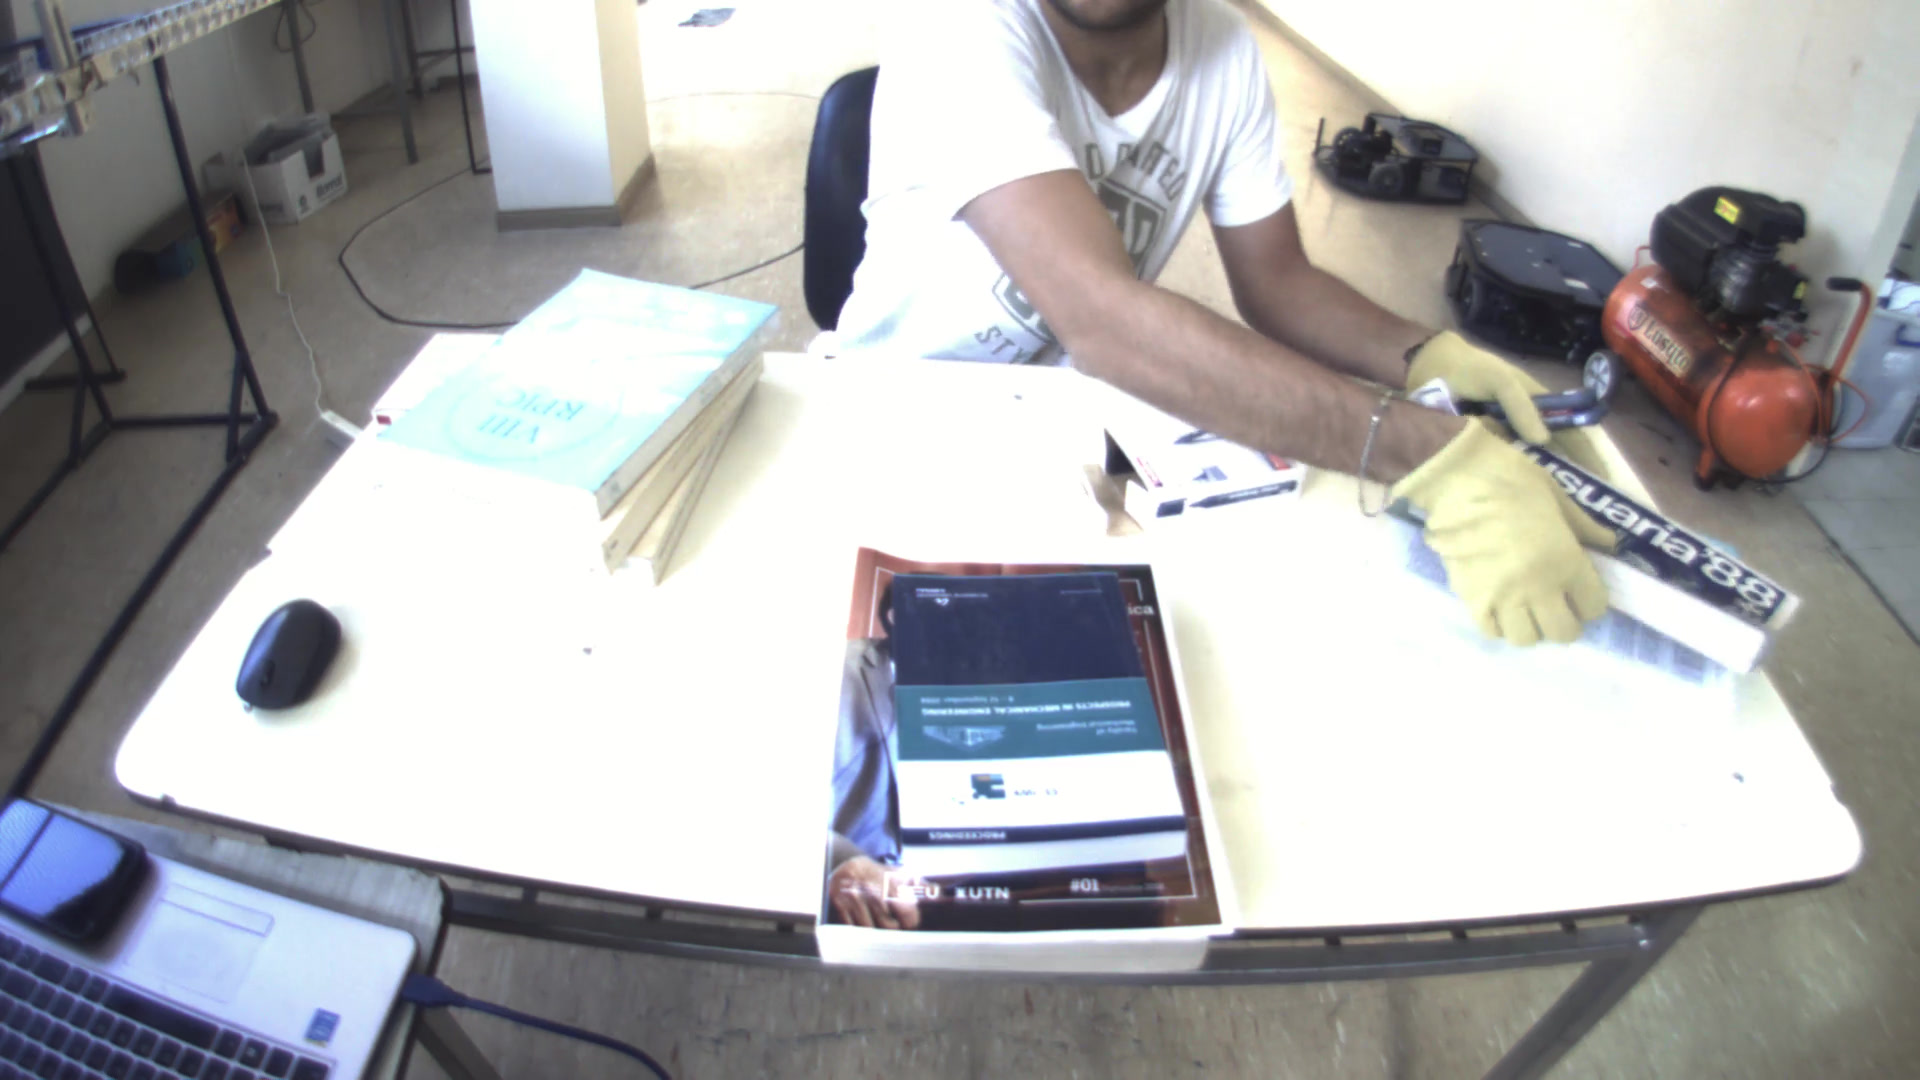hand: (1385, 417, 1621, 655), (1402, 330, 1611, 487), (847, 874, 967, 969)
